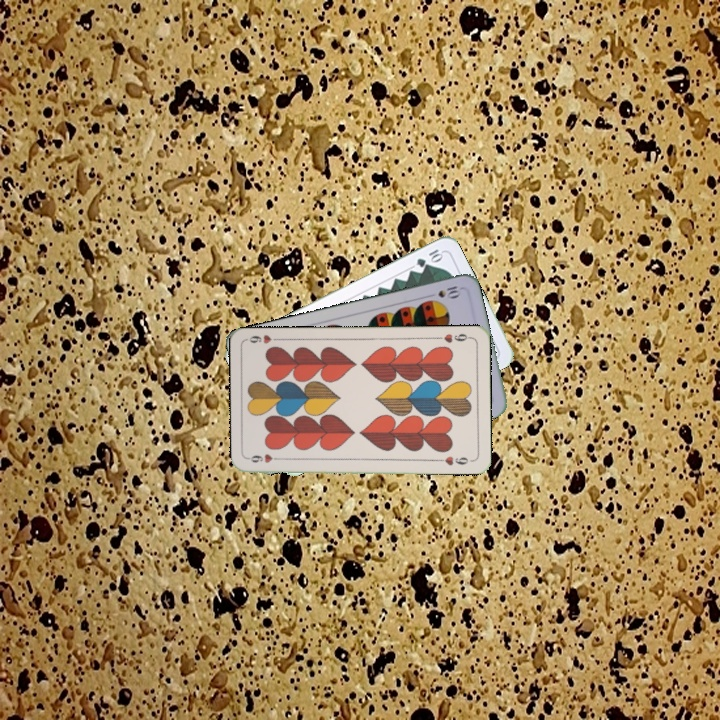G10: (412, 245, 445, 270)
H9: (433, 329, 474, 345), (246, 451, 286, 465)
S10: (434, 282, 463, 300)
